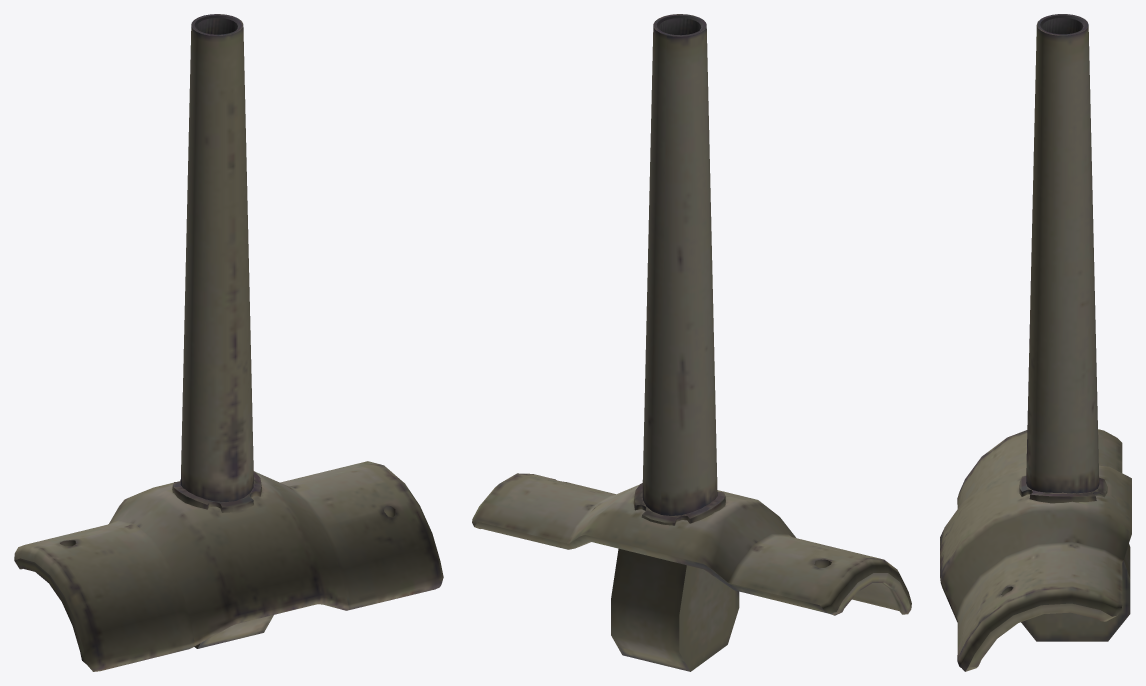
The model's file is Gun_07.glb.
3 renders of one model, left to right at view 1: azimuth 30°, elevation 25°; view 2: azimuth 150°, elevation 25°; view 3: azimuth 270°, elevation 25°, orthographic. The views are drawn at different scales.
Parts seen in each view (by area): view 1: set_0_group_0; view 2: set_0_group_0; view 3: set_0_group_0.
Boxes of the visible parts, bbox=[...] form: set_0_group_0: bbox=[14, 14, 443, 671]; set_0_group_0: bbox=[472, 14, 911, 671]; set_0_group_0: bbox=[940, 14, 1131, 671].
Size of the model in its own units: 1.04 by 1.7 by 0.4918.
1 material, 1 textured.
